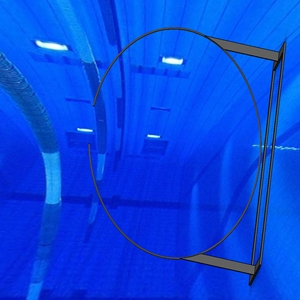circle: (88, 27, 287, 288)
